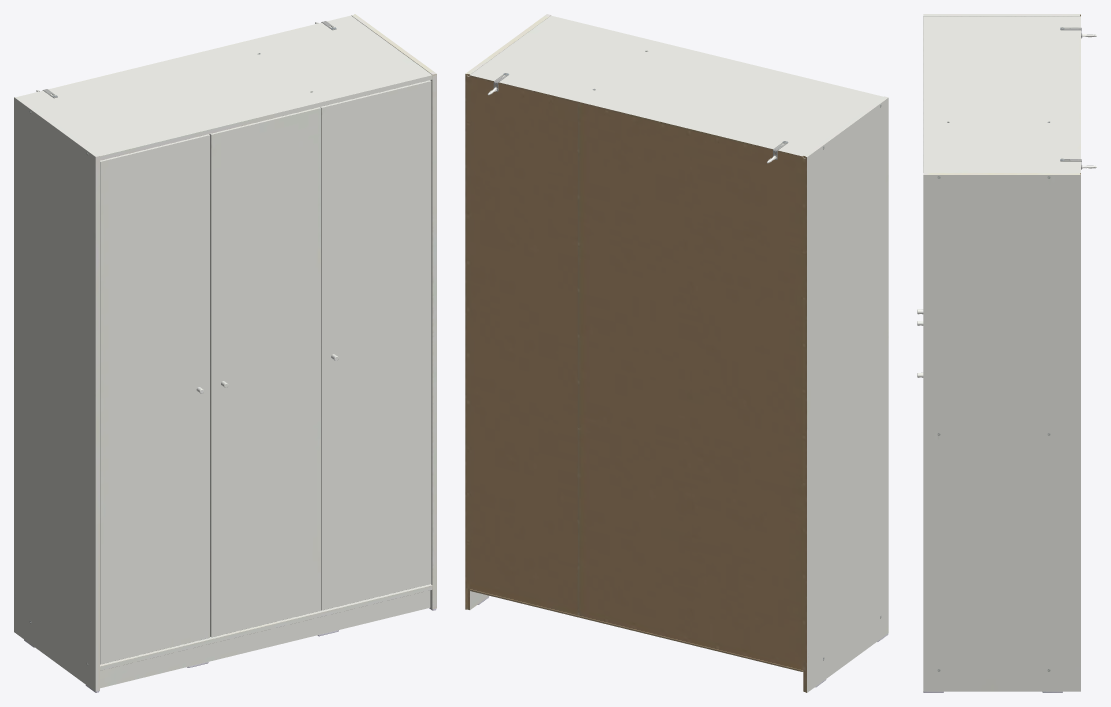
The picture shows the model from 3 angles, left to right: view 1: azimuth 30°, elevation 25°; view 2: azimuth 150°, elevation 25°; view 3: azimuth 270°, elevation 25°; orthographic projection. The views are drawn at different scales.
Parts seen in each view (by area): view 1: Mesh_0; view 2: Mesh_0; view 3: Mesh_0.
Part boxes in pixels (x1,y1,x2,y2): Mesh_0: (14, 14, 436, 692); Mesh_0: (465, 14, 888, 692); Mesh_0: (917, 14, 1096, 692).
Bounding box in the file's own units: 1.17 × 1.76 × 0.5501.
Materials: 1 (1 with a texture image).
